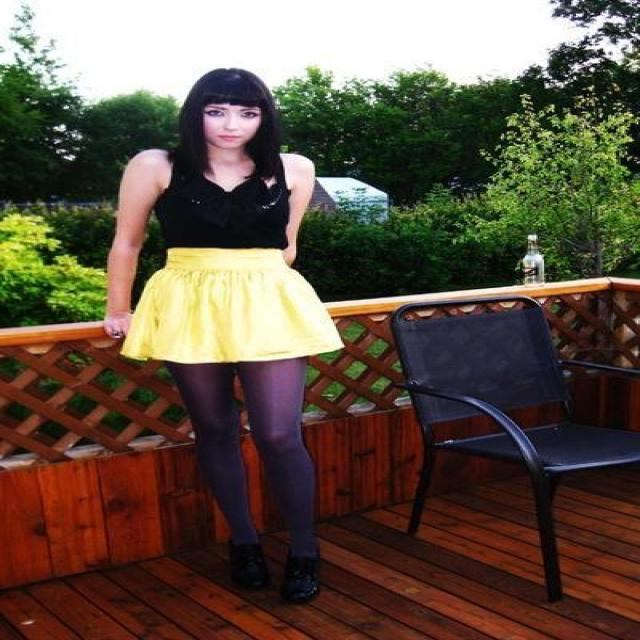shirt: (147, 180, 290, 250)
shoe: (230, 535, 322, 607)
skirt: (120, 248, 363, 362)
